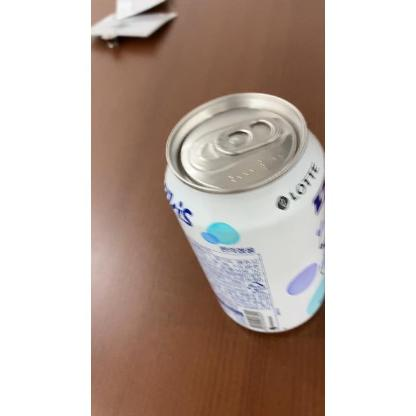Can: (166, 87, 324, 337)
